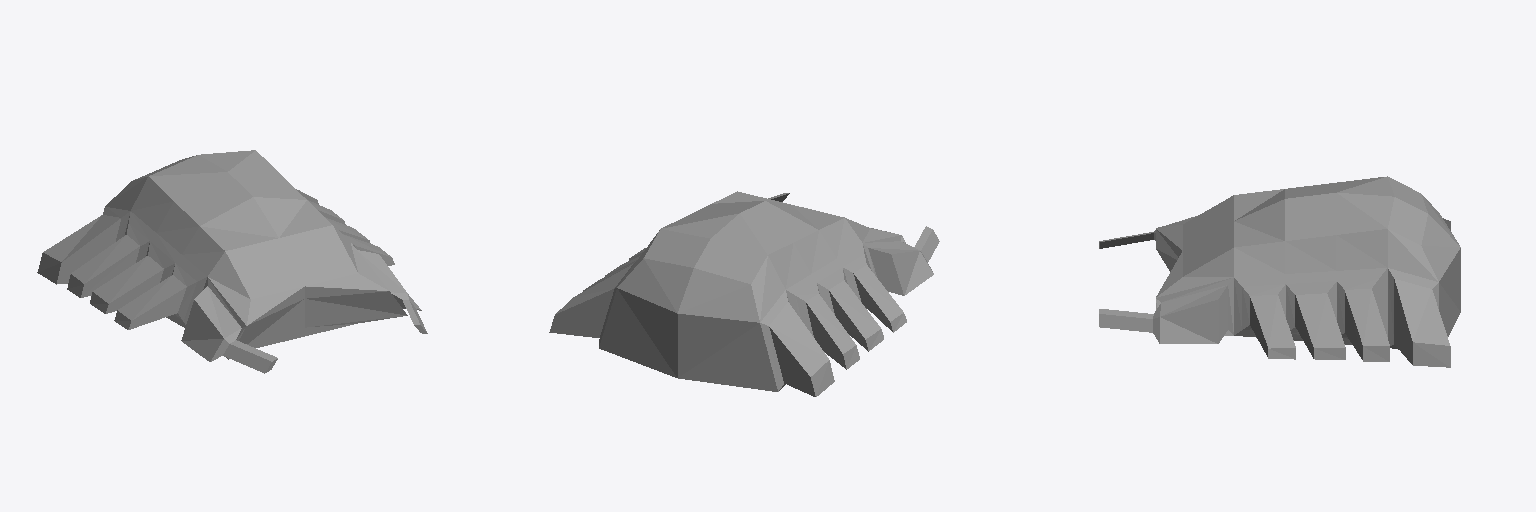
Rendered from Beetle.obj.
3 views of the same model, side by side, from view 1: azimuth 30°, elevation 25°; view 2: azimuth 150°, elevation 25°; view 3: azimuth 270°, elevation 25° (orthographic).
Parts seen in each view (by area): view 1: Cube; view 2: Cube; view 3: Cube.
Boxes of the visible parts, <box> form: Cube: <box>37,150,427,373</box>; Cube: <box>549,191,939,396</box>; Cube: <box>1099,176,1460,367</box>.
Size of the model in its own units: 4.98 by 2.25 by 5.83.